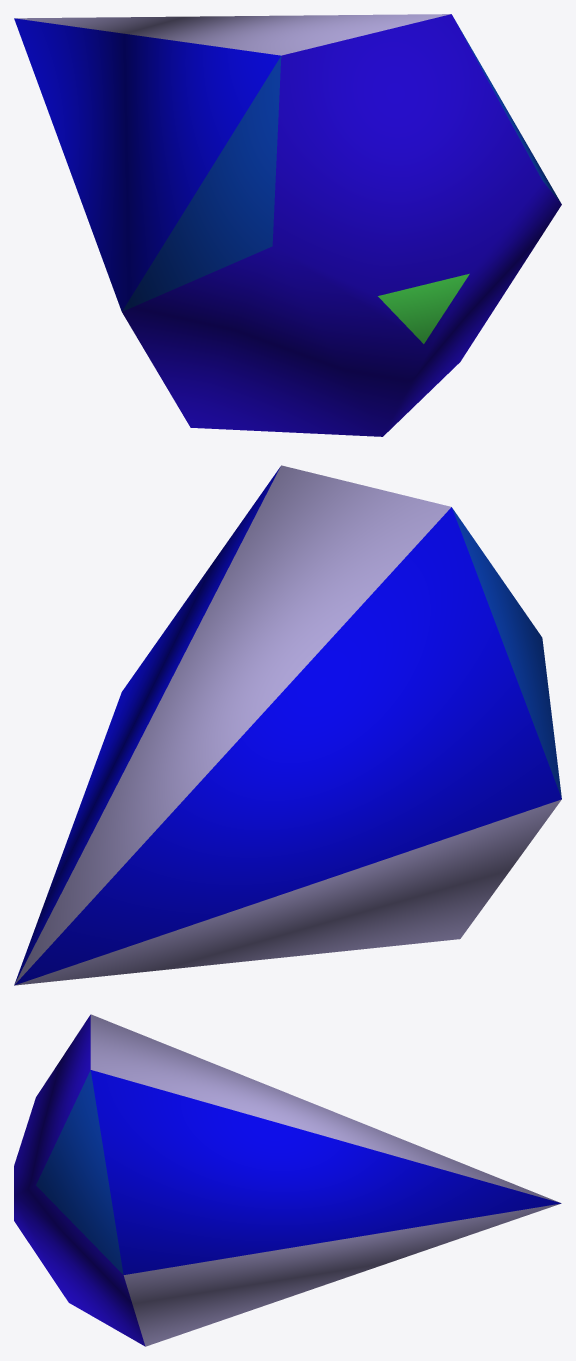
File: boa.gltf
3 views of the same model, one above another, from view 1: azimuth 30°, elevation 25°; view 2: azimuth 150°, elevation 25°; view 3: azimuth 270°, elevation 25° (orthographic). The views are drawn at different scales.
Visible parts, largest first — view 1: boa_None; view 2: boa_None; view 3: boa_None.
Boxes of the visible parts, x1,y1,x2,y2 form: boa_None: (14,14,561,436); boa_None: (14,465,561,985); boa_None: (14,1014,561,1346).
Bounding box in the file's own units: 0.0124 × 0.0105 × 0.02.
